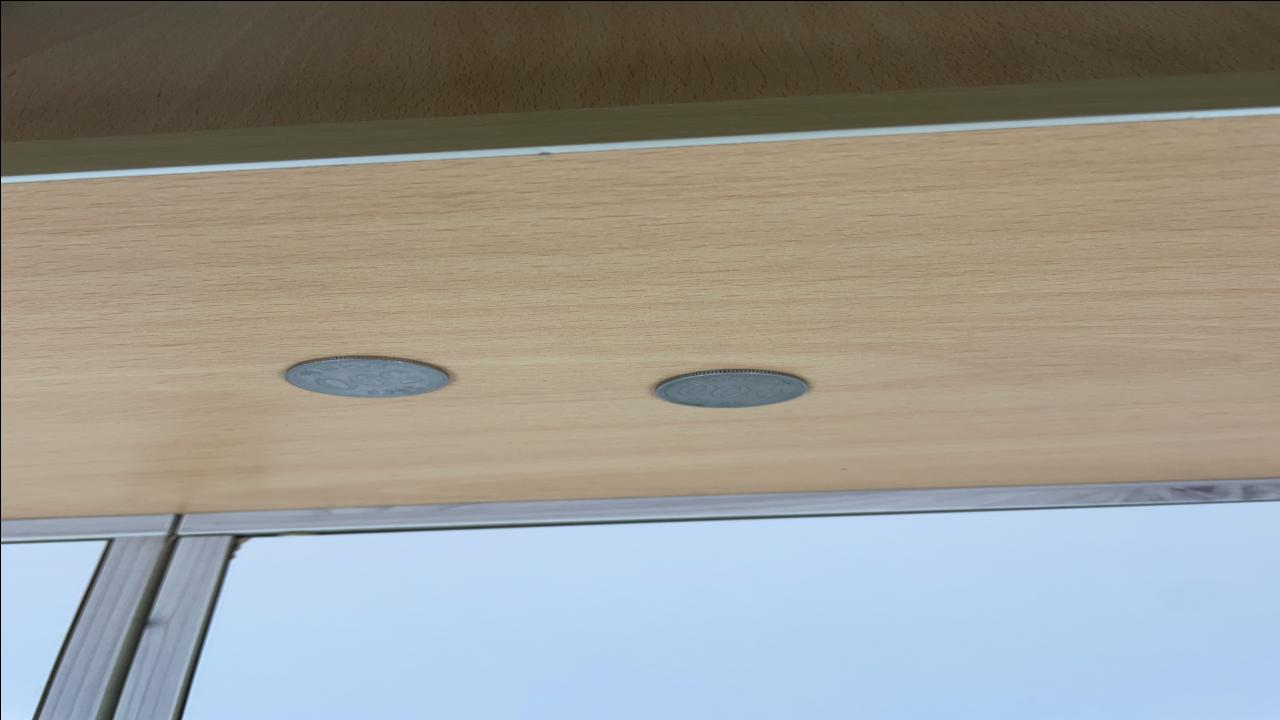coin: (279, 353, 453, 400), (650, 366, 814, 410)
